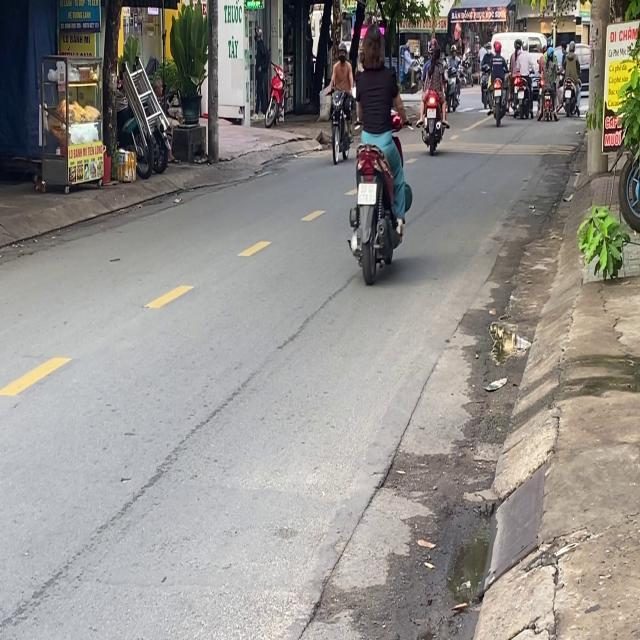helmet: (337, 38, 349, 61)
licenseplate: (346, 10, 412, 282), (327, 37, 355, 162)
motorcyclist: (361, 23, 386, 72)
nohelmet: (358, 184, 376, 205)
